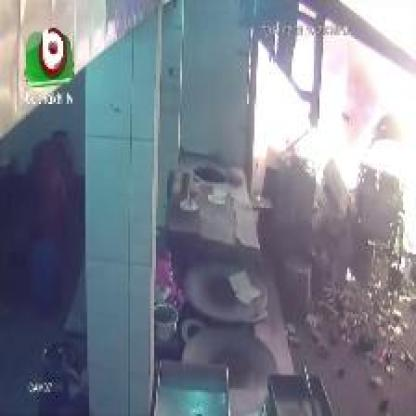fire: (258, 45, 416, 204), (341, 2, 416, 264)
